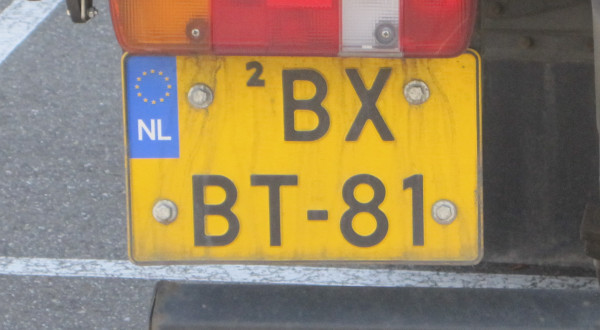license_plate: (122, 52, 485, 266)
